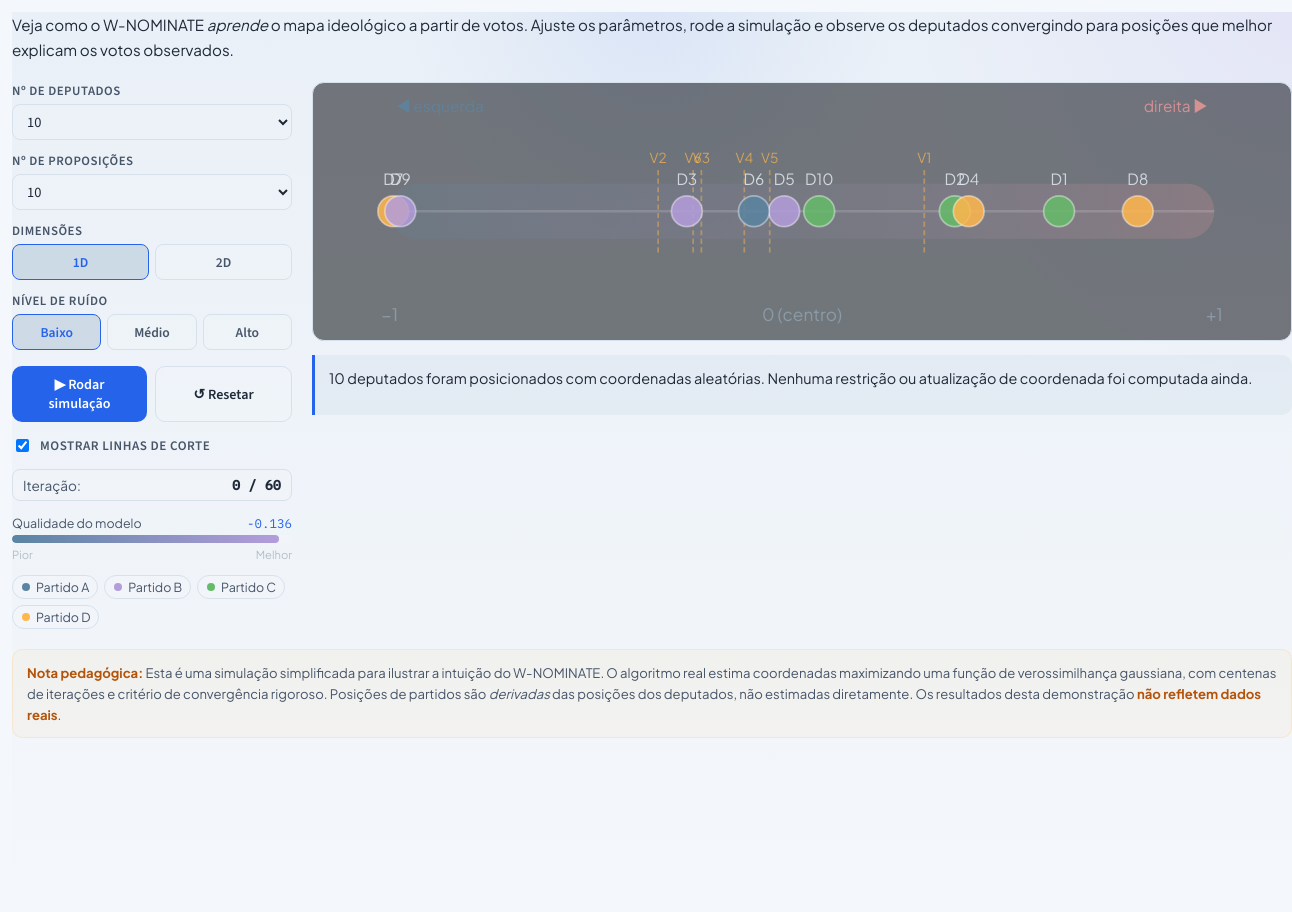
Test case: WNominateDemo › 2D SVG appears when switching to 2D
The image size is (1292, 912).
Click the radio button with test id "dim-2d" at (224,262), box [155,244,292,280]
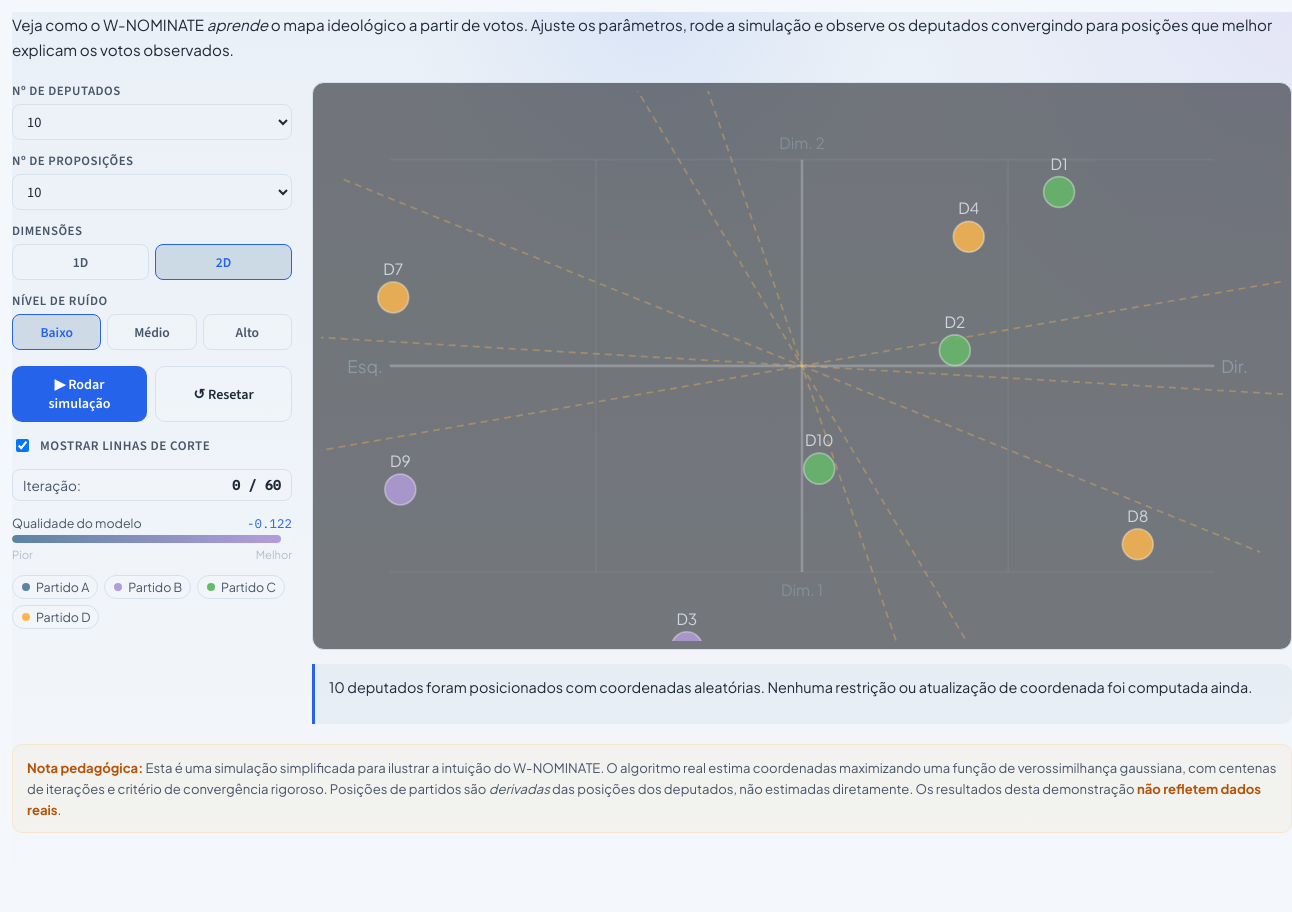
expect the picture named "2D" is shown: met, box [321,91,1283,641]
